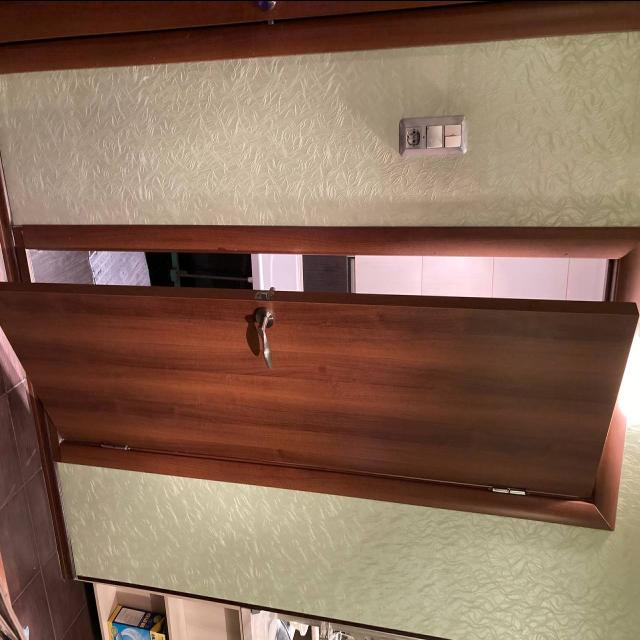open: (20, 216, 606, 510)
